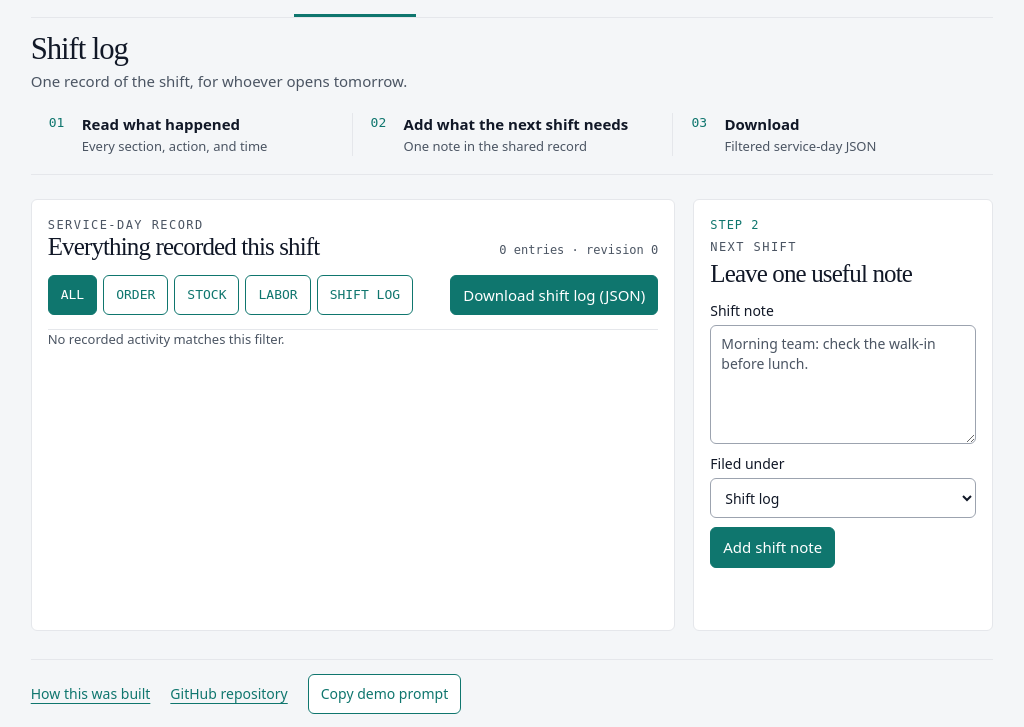
Test case: order review UI › adds and filters a note on the shift log
(page scrolled)
Expected: the text "One record of the shift, for whoever opens tomorrow." is shown, 31,71 -> 407,91
In the text box labelled "Shift note": (843, 384) 710,325 -> 976,444, type "Check the walk-in before lunch."
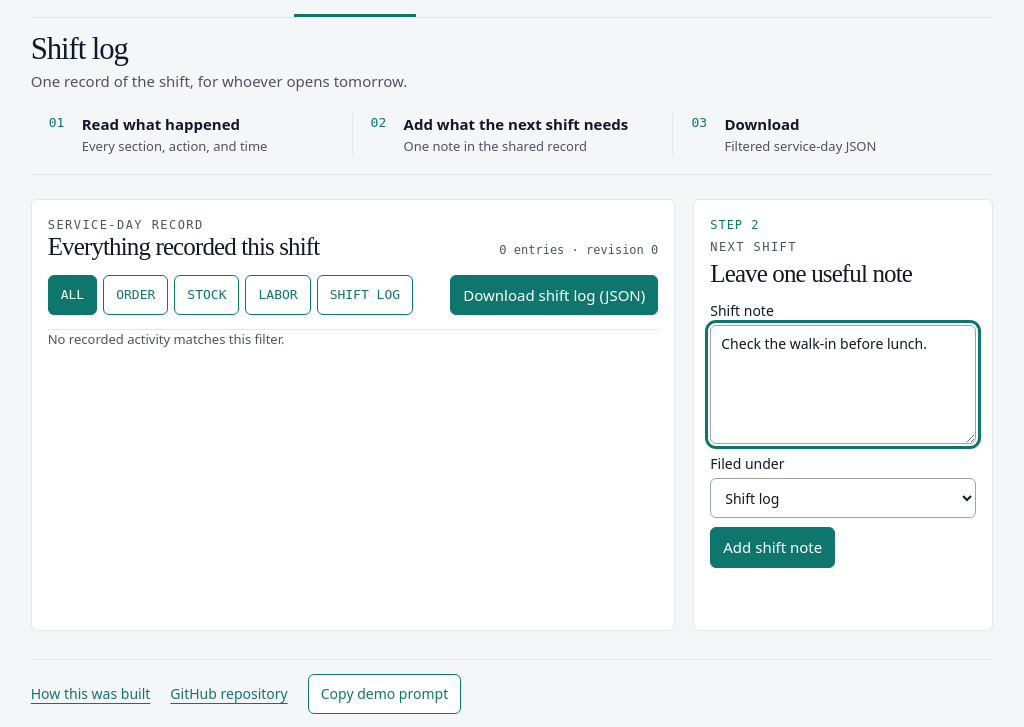
Select "Stock" in the dropdown labelled "Filed under": (843, 498) 710,478 -> 976,518
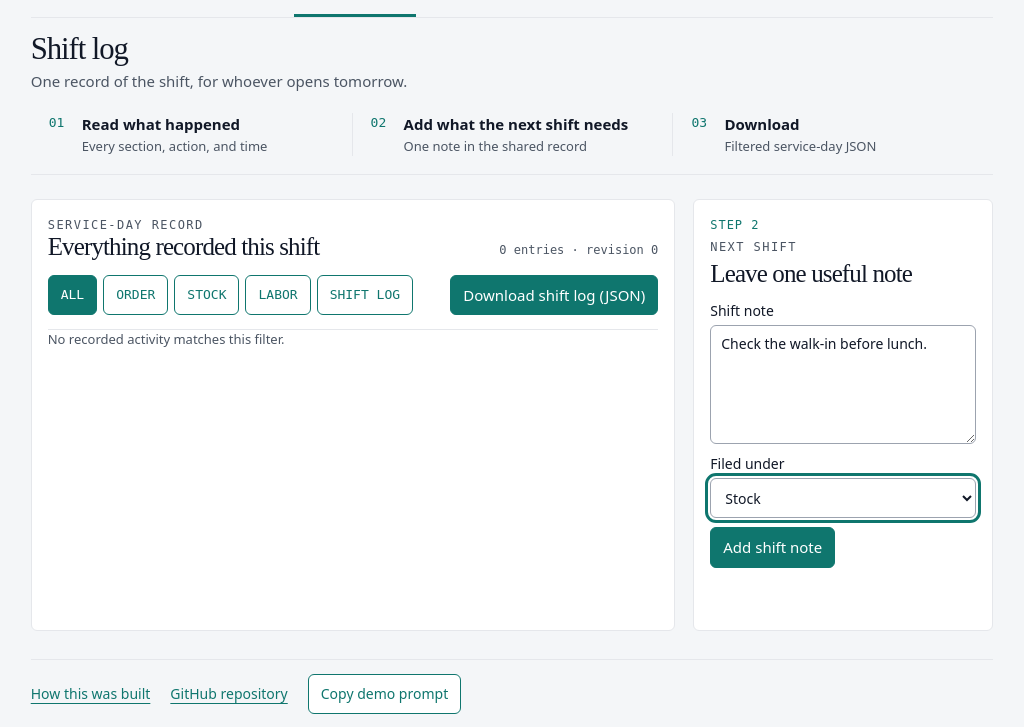
Click the button "Add shift note": (773, 547) 710,527 -> 835,568
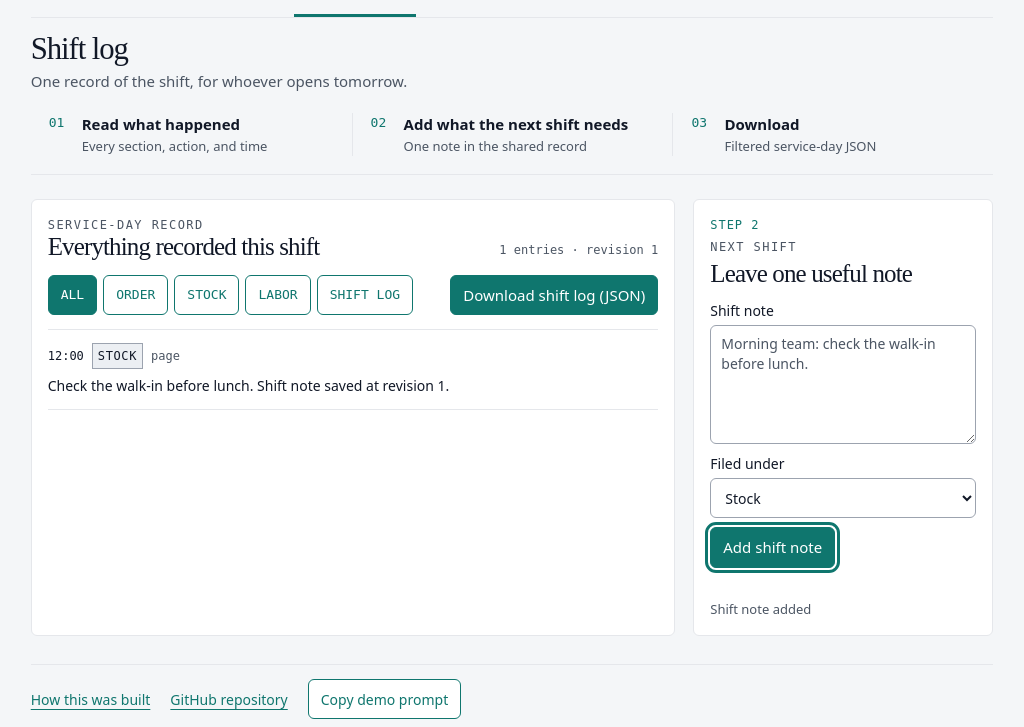
Result: the text "Check the walk-in before lunch" is shown at 48,376 -> 449,395
Click the button "Labor": (278, 295) 246,275 -> 311,315
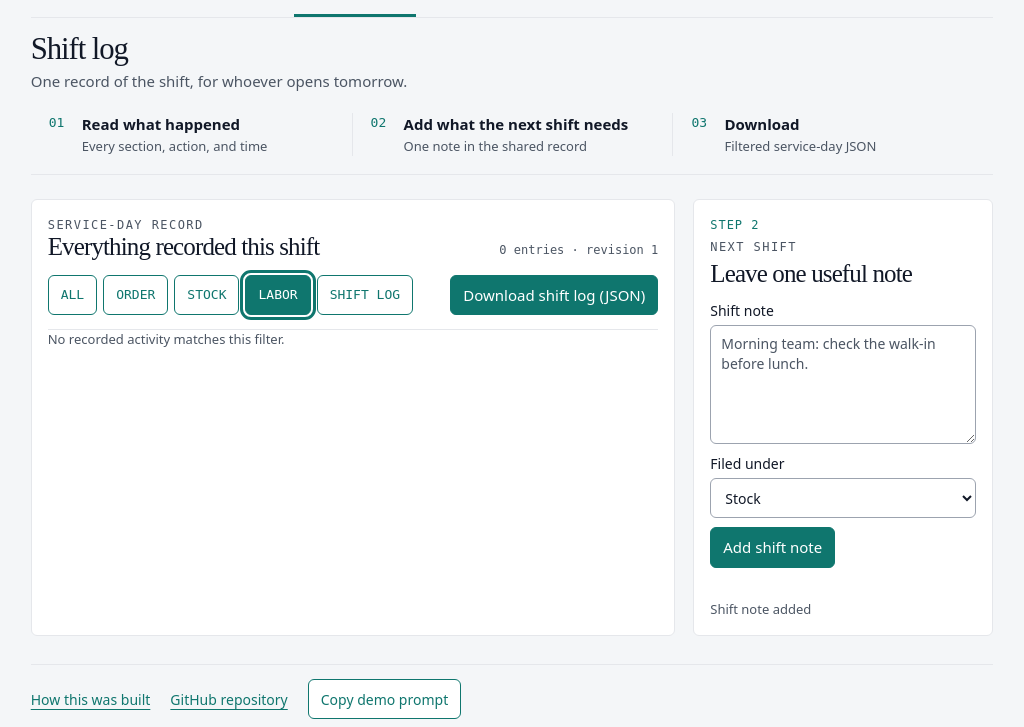
Result: the text "No recorded activity matches this filter." is shown at 48,330 -> 284,348
Click the button "Stock": (207, 295) 174,275 -> 239,315
(page scrolled)
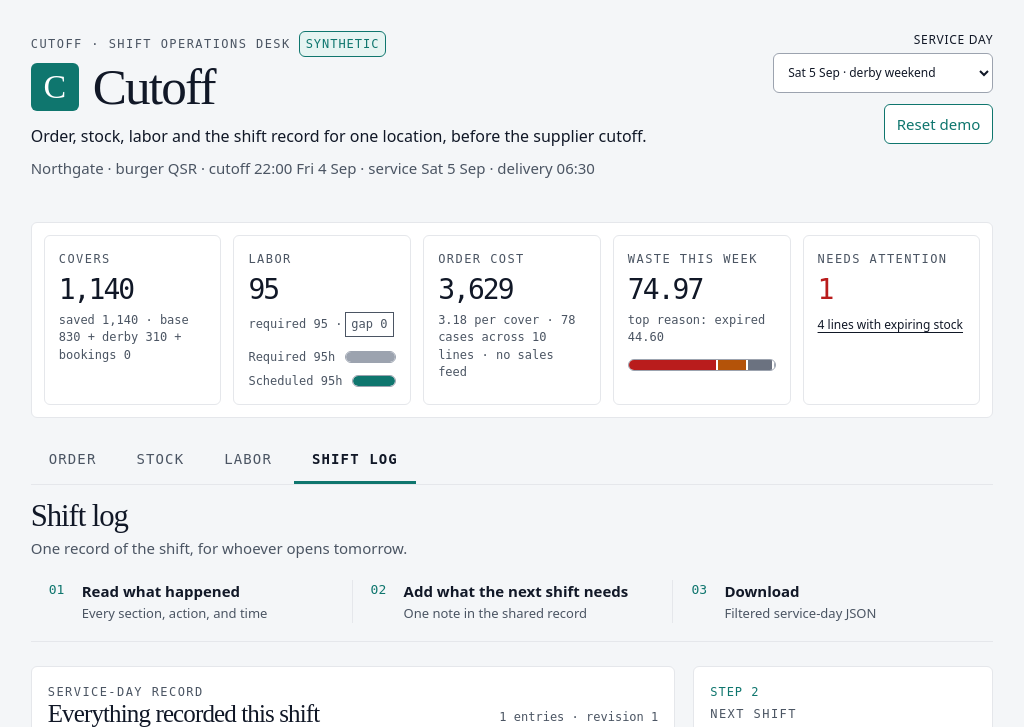
Select "Tue 8 Sep · rainy midweek" in the dropdown labelled "Service day": (883, 73) 773,53 -> 993,93
(page scrolled)
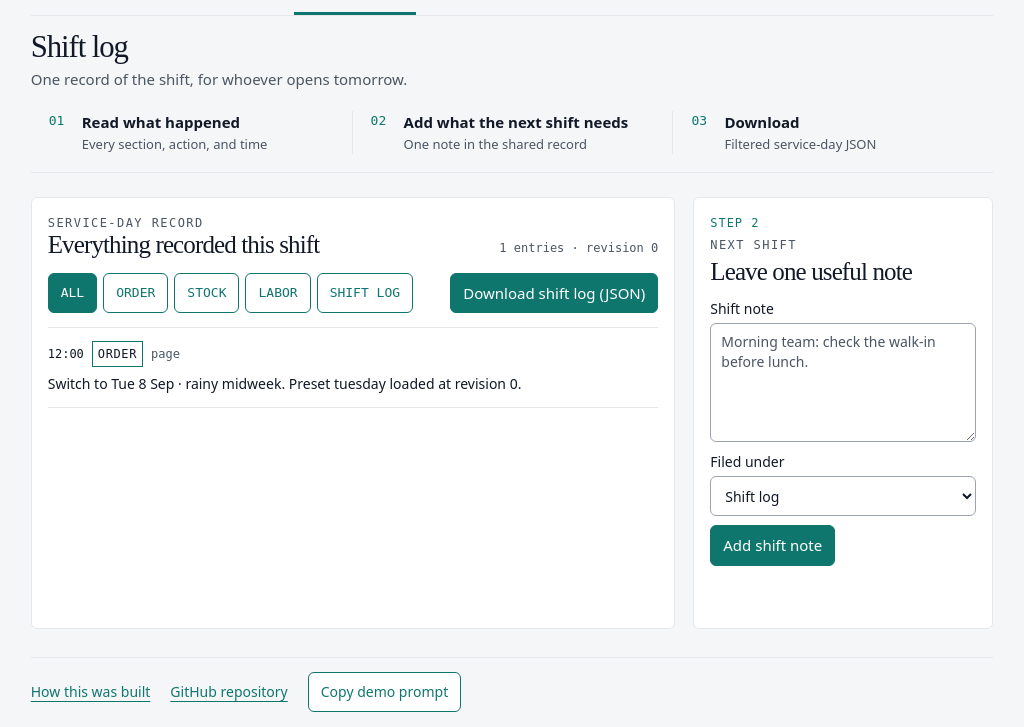
Expected: the text "Shift note added" is not shown
Result: the text "Preset tuesday loaded at revision 0" is shown at 48,374 -> 521,393
